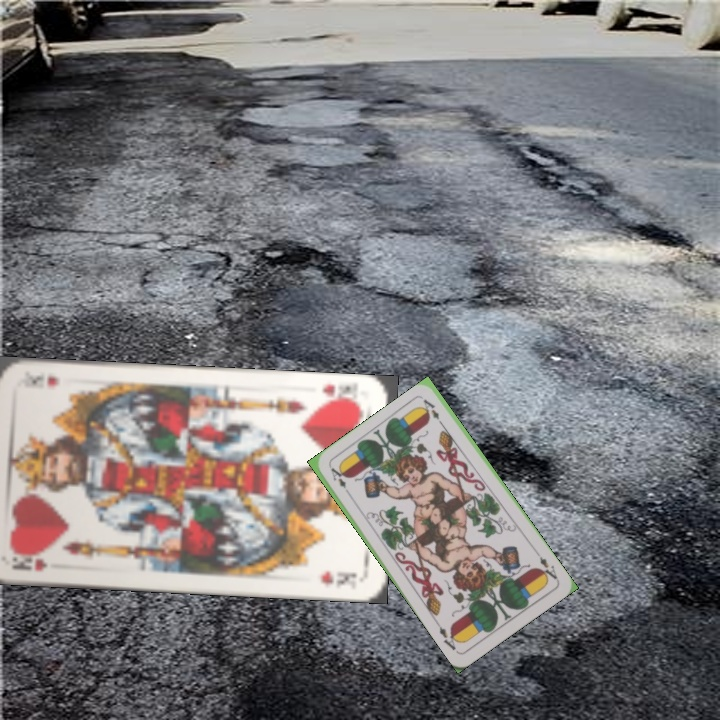EA: (532, 548, 561, 584), (327, 464, 354, 499)
HK: (317, 379, 363, 408), (13, 550, 50, 573)
